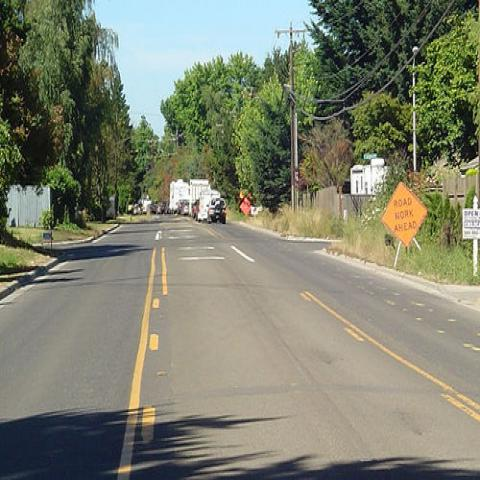car: (207, 198, 227, 224), (192, 199, 200, 222), (177, 200, 188, 215)
truck: (195, 188, 226, 225), (189, 179, 210, 215)
